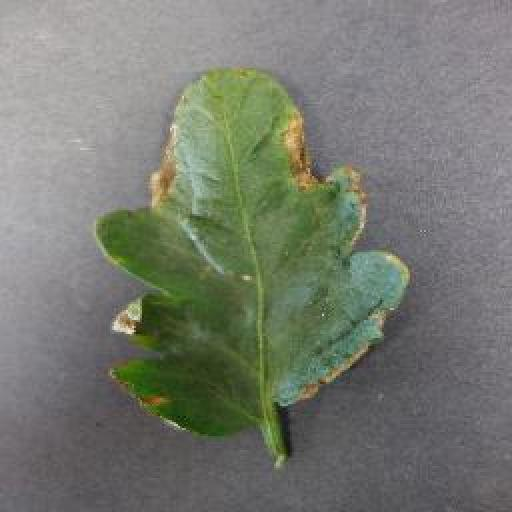Bacterial Spot: (95, 60, 416, 447)
